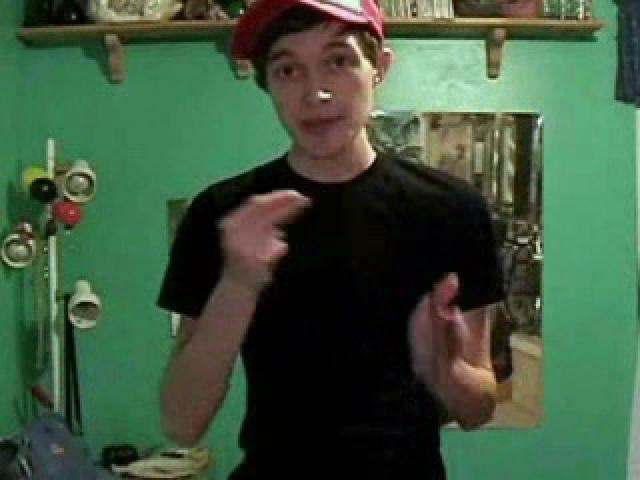F: (156, 4, 504, 477)
